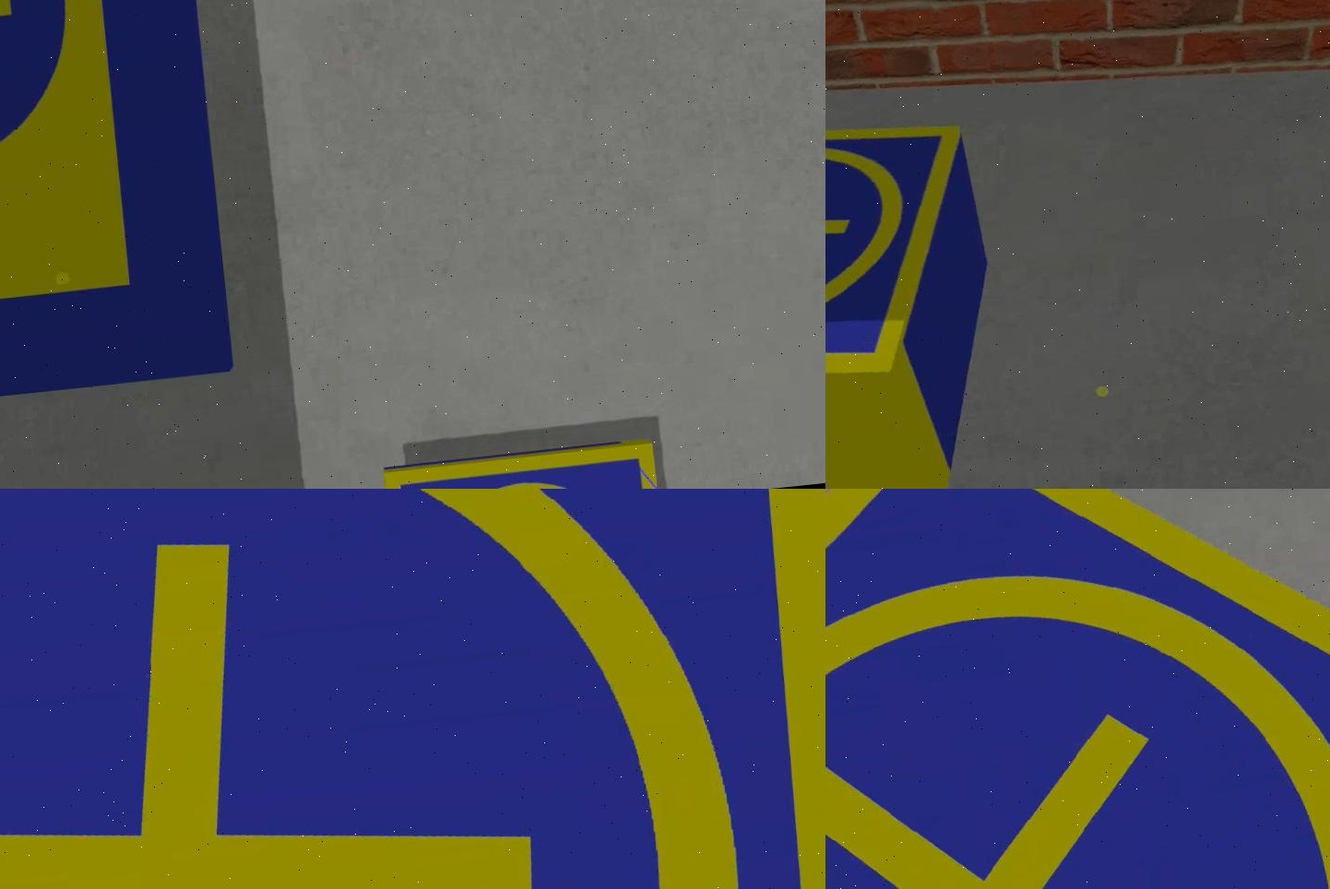large_base: (0, 1, 232, 417)
small_base: (0, 490, 824, 889), (824, 490, 1328, 889), (824, 110, 993, 417), (385, 443, 660, 490)
